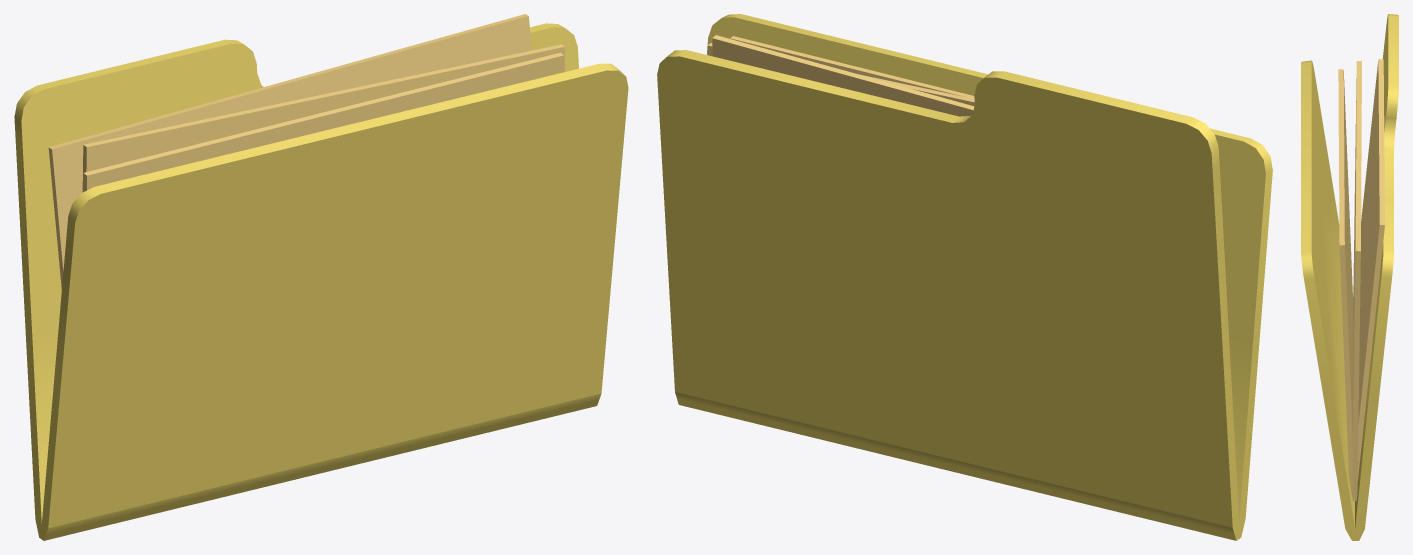
The model's file is Folder.glb.
3 views of the same model, side by side, from view 1: azimuth 30°, elevation 25°; view 2: azimuth 150°, elevation 25°; view 3: azimuth 270°, elevation 25° (orthographic). The views are drawn at different scales.
Visible parts, largest first — view 1: Object_30, Object_32, Object_36, Object_34; view 2: Object_30, Object_32, Object_36; view 3: Object_30, Object_32, Object_36, Object_34.
Boxes of the visible parts, x1,y1,x2,y2 form: Object_30: [14, 23, 628, 540]; Object_32: [48, 14, 531, 290]; Object_36: [83, 52, 563, 191]; Object_34: [82, 44, 564, 192]; Object_30: [657, 14, 1272, 540]; Object_32: [712, 35, 974, 116]; Object_36: [729, 36, 974, 98]; Object_30: [1301, 14, 1398, 540]; Object_32: [1353, 59, 1384, 481]; Object_36: [1338, 69, 1355, 499]; Object_34: [1352, 61, 1361, 501].
Size of the model in its own units: 183 by 135 by 36.68.
